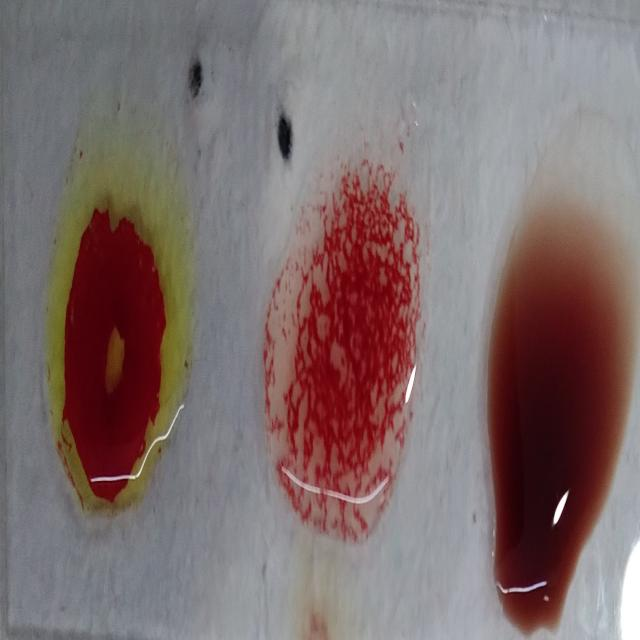B: (44, 103, 193, 525)
D: (266, 135, 424, 544)
